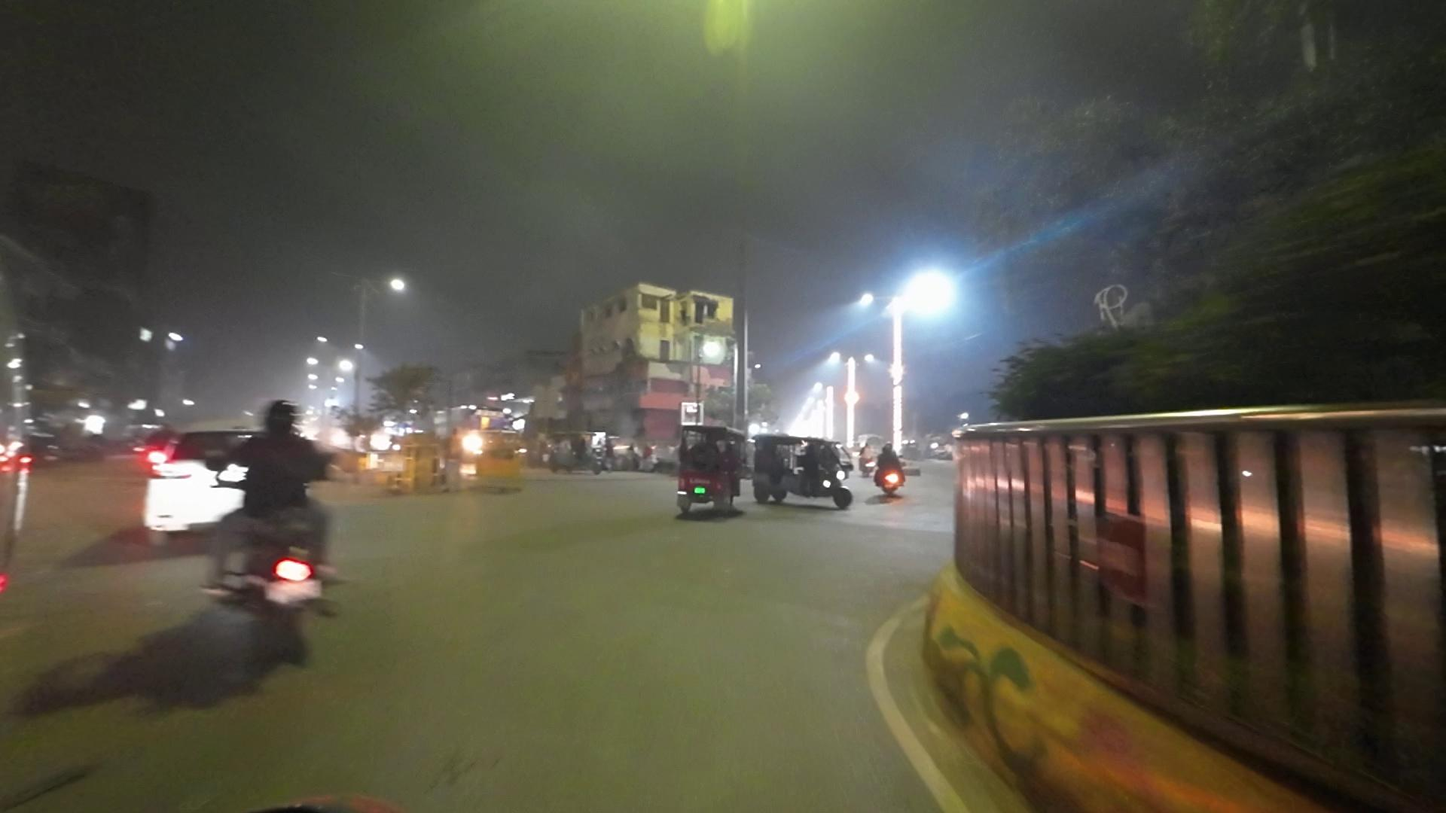streetlight: (325, 264, 361, 285)
